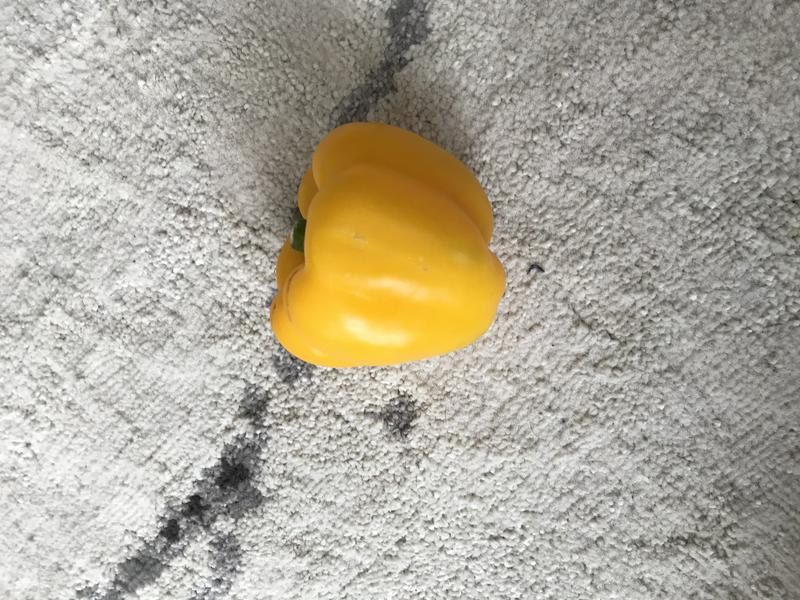yellow_pepper: (259, 112, 512, 379)
